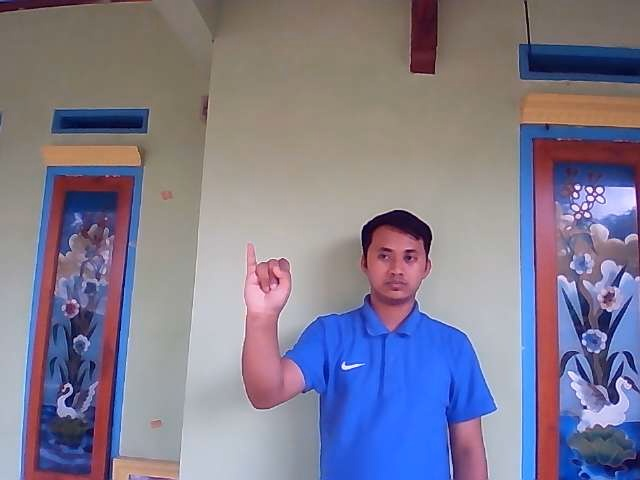I: (243, 241, 293, 316)
